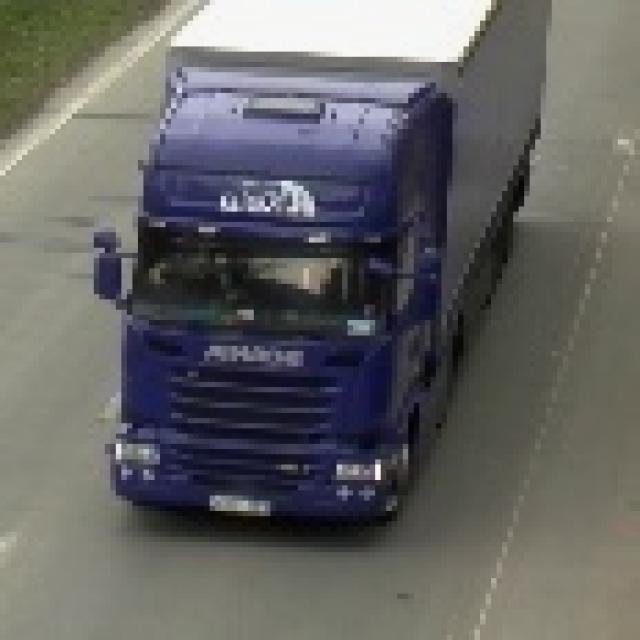TRUCK: (96, 0, 576, 521)
